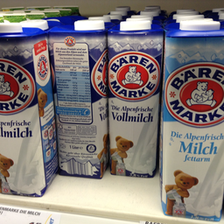milk: (161, 18, 224, 222), (1, 22, 58, 197), (48, 21, 106, 180), (109, 18, 159, 178)
